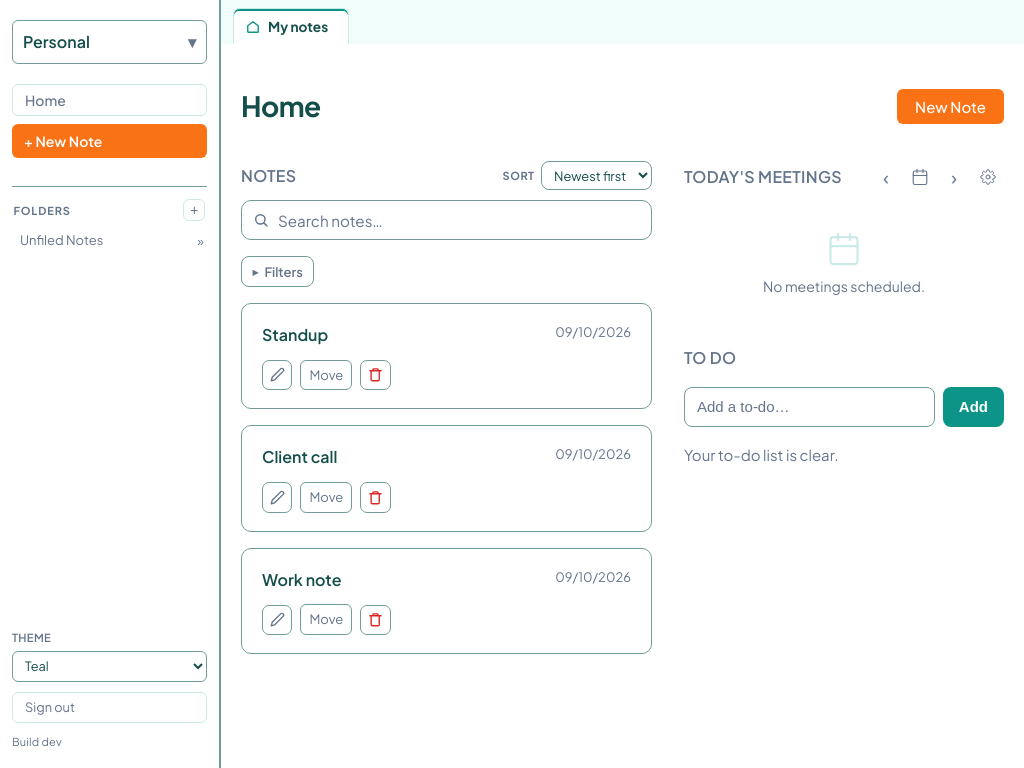
Open-note tab persistence (49-B) › loads the other workspace's own tabs when switching in-session
The width and height of the screenshot is (1024, 768).
Click the heading with test id "note-card-title" showing "Standup": (295, 334) [262, 324, 328, 345]
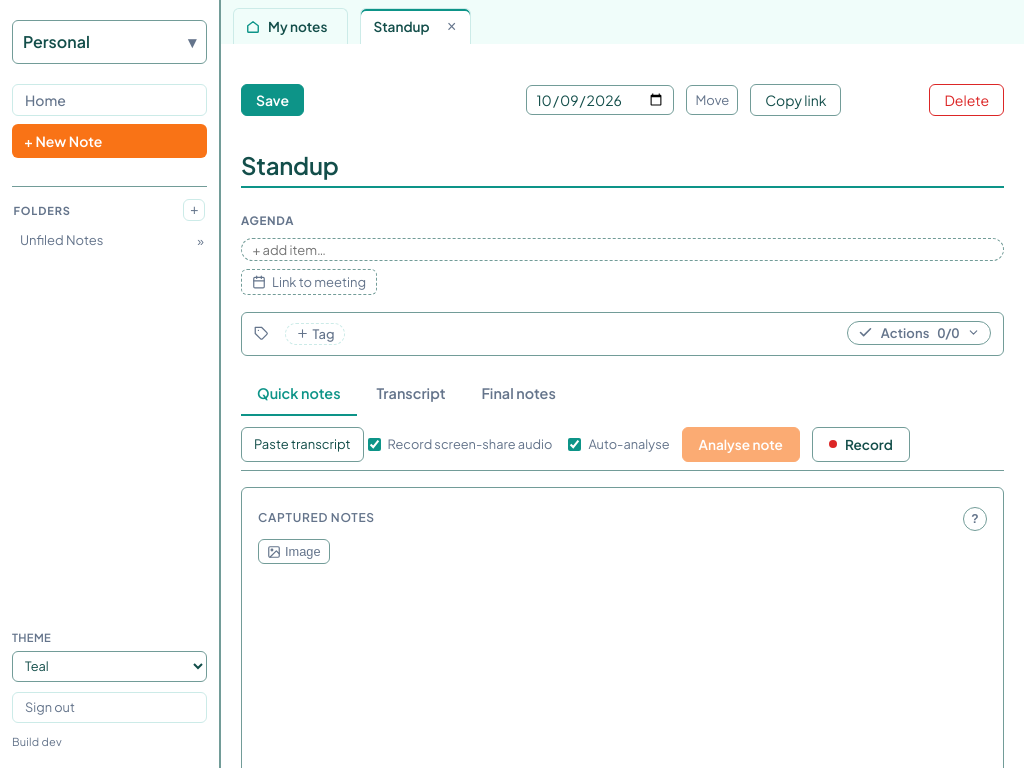
Check: the field with test id "note-title-input" is shown, box [241, 144, 1004, 188]
Check: the number of list items with test id "open-note-tab" is 1, box [360, 8, 471, 44]
Click the button with test id "workspace-switcher-trigger": (110, 42) [12, 20, 207, 64]
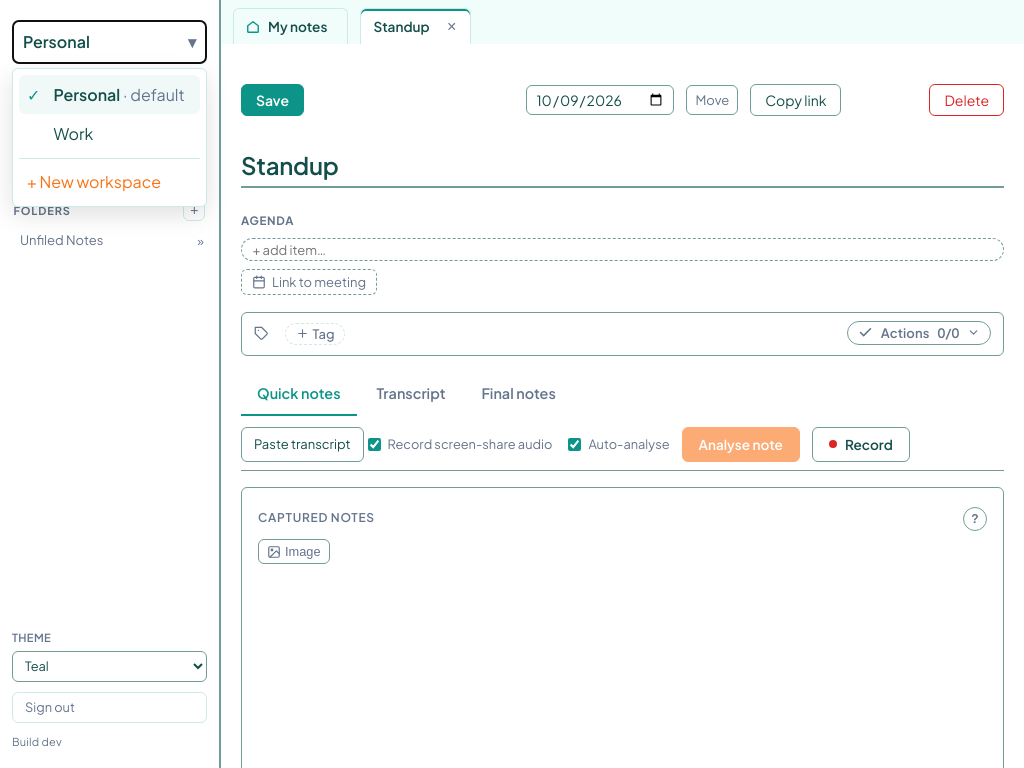
Click the button with test id "workspace-option-ws-2": (120, 134) [47, 120, 192, 148]
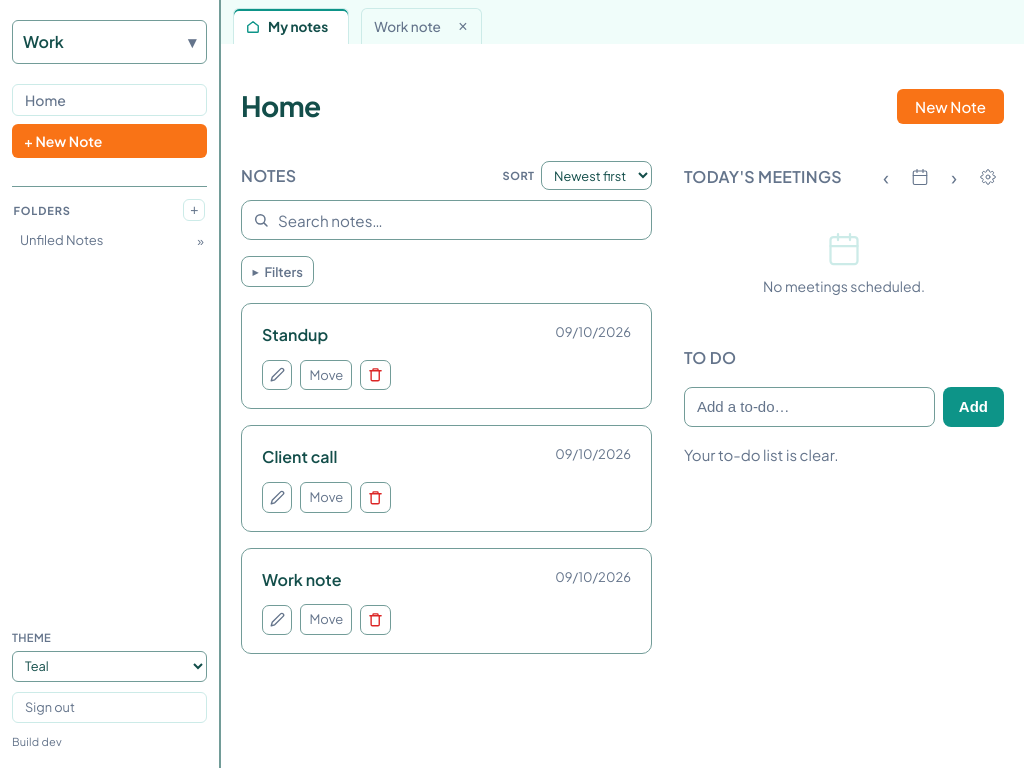
Click the heading with test id "note-card-title" showing "Client call": (300, 457) [262, 446, 338, 467]
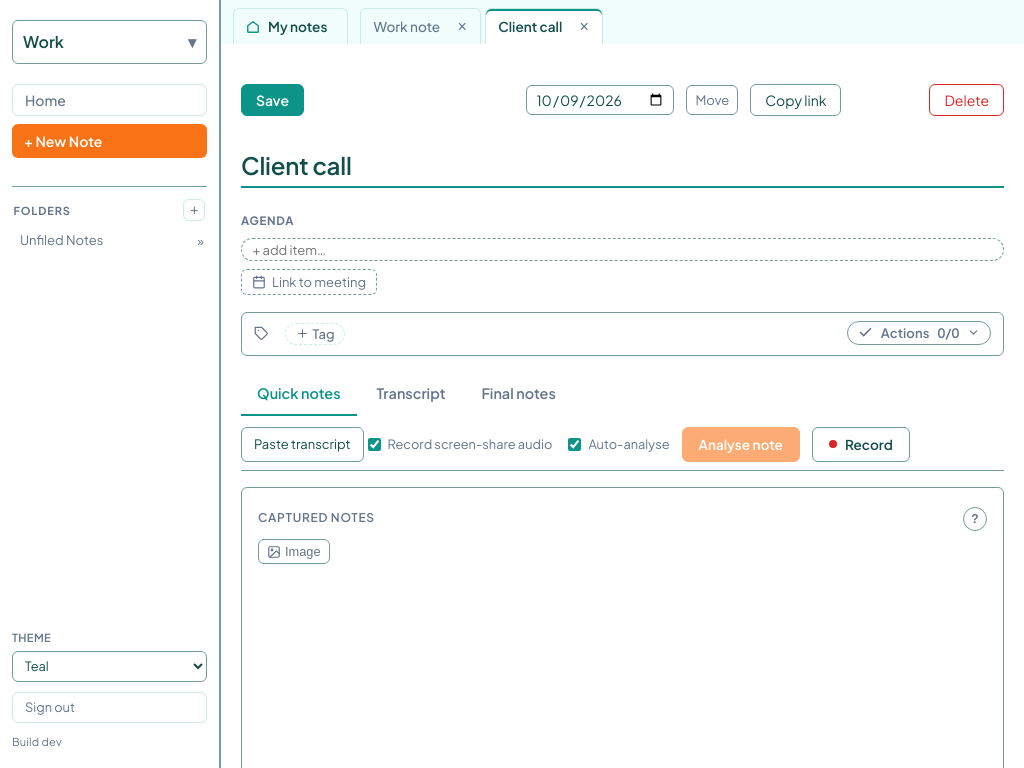
Check: the button "Work note" is shown, box [361, 10, 444, 43]
Check: the button "Client call" is shown, box [486, 10, 566, 43]
Check: the field with test id "note-title-input" is shown, box [241, 144, 1004, 188]
